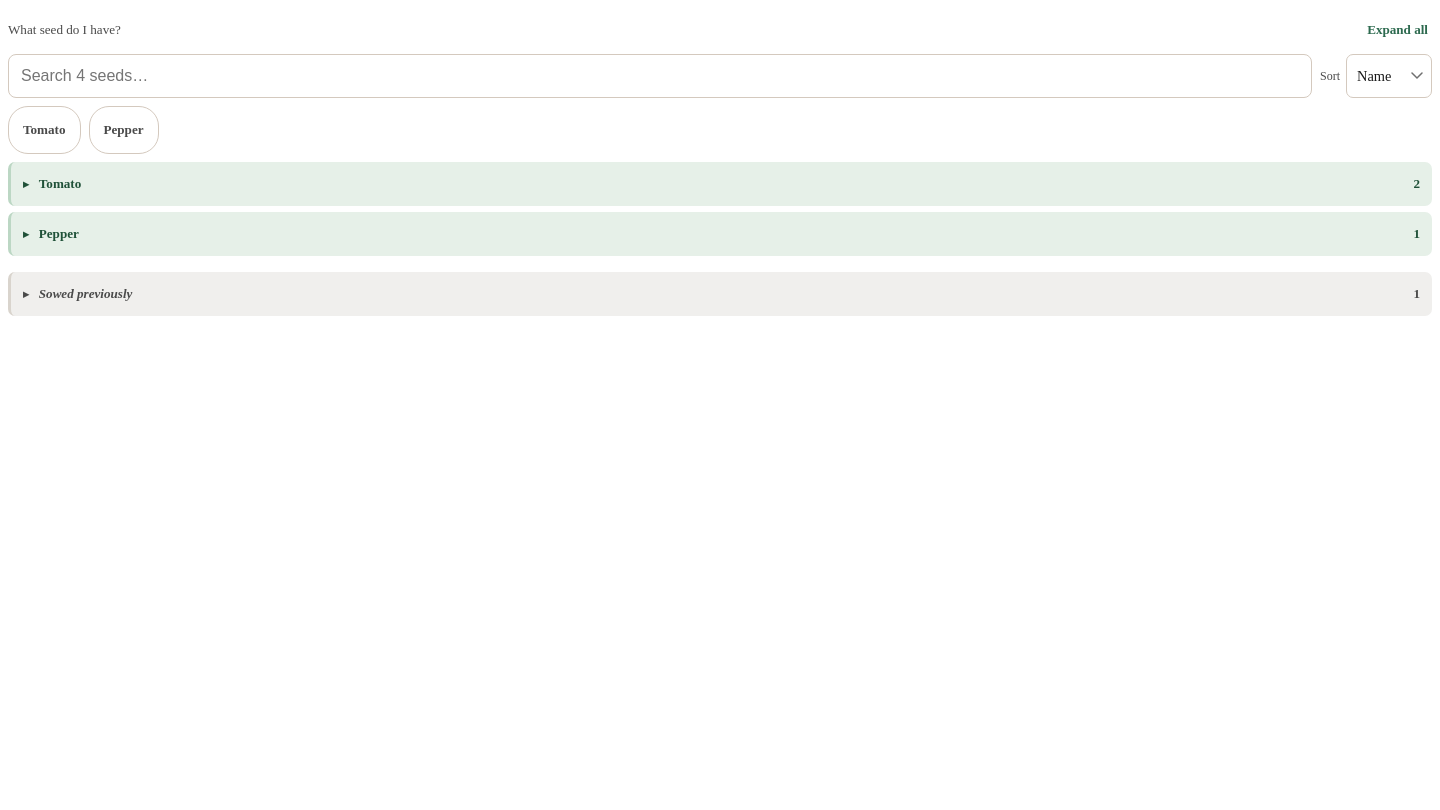
Test case: My seeds — folding groups › Expand all opens every section, Collapse all folds them, and the label says which
The width and height of the screenshot is (1440, 810).
expect the element with test id "my-seeds-view" is shown: met, box top-left (8, 8), bottom-right (1432, 316)
Click the button with test id "my-seeds-expand-all".
click(1398, 30)  # box top-left (1363, 8), bottom-right (1432, 52)
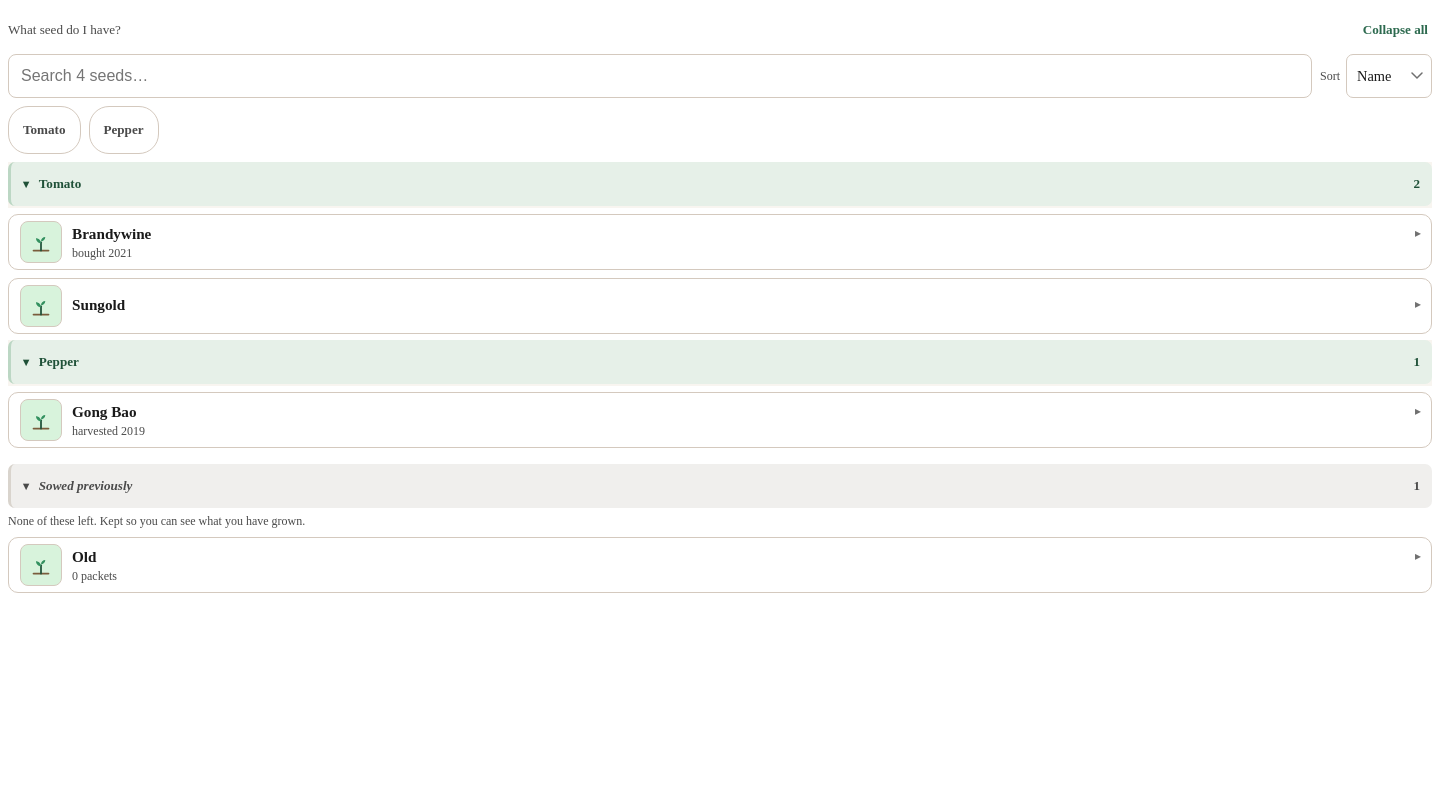
expect the number of elements with test id "my-seed-row" is 4: met, box top-left (8, 214), bottom-right (1432, 270); top-left (8, 278), bottom-right (1432, 334); top-left (8, 392), bottom-right (1432, 448); top-left (8, 537), bottom-right (1432, 593)
expect the button with test id "my-seeds-expand-all" reads "Collapse all": met
Click the button with test id "my-seeds-expand-all".
click(1395, 30)  # box top-left (1359, 8), bottom-right (1432, 52)
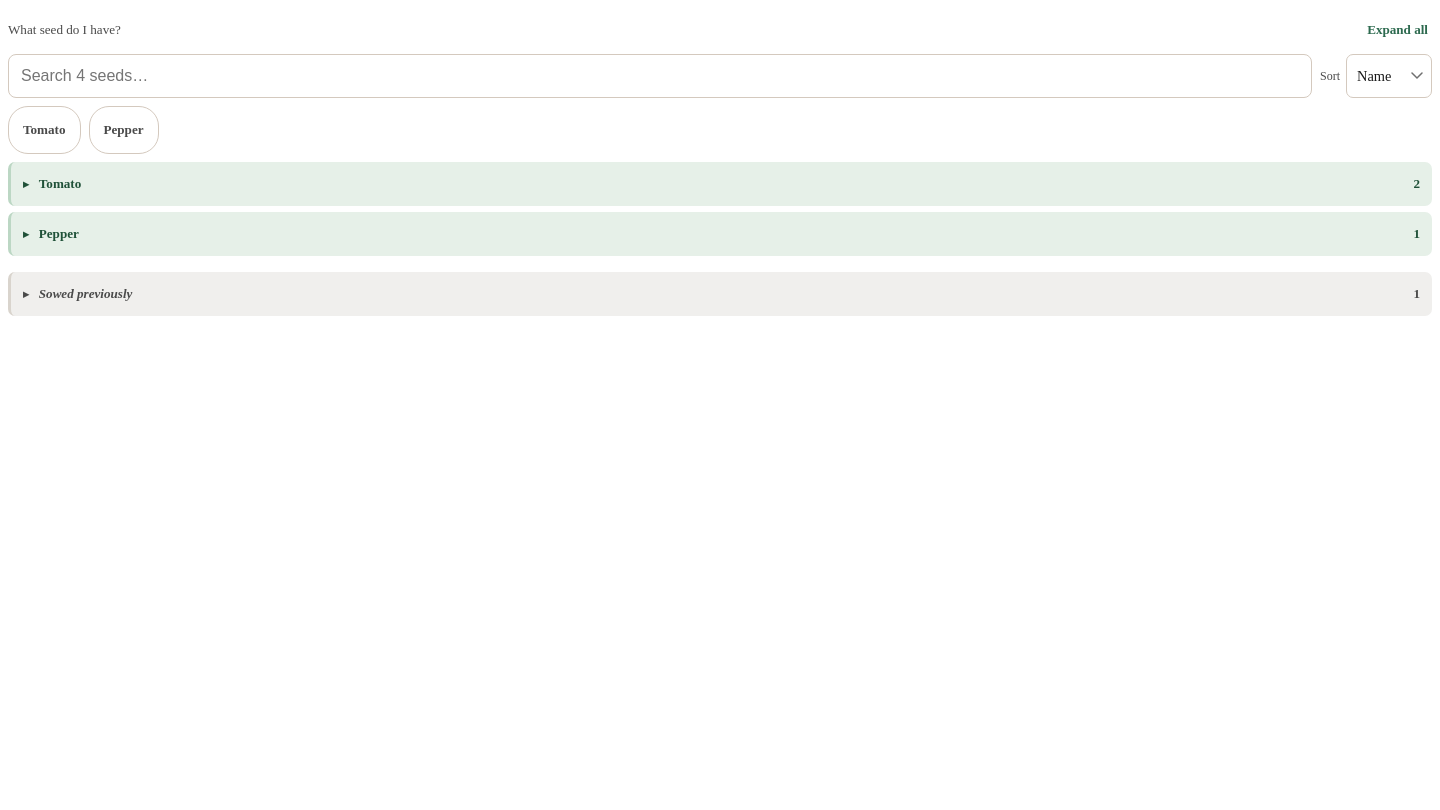
expect the button with test id "my-seeds-expand-all" reads "Expand all": met, box top-left (1363, 8), bottom-right (1432, 52)
